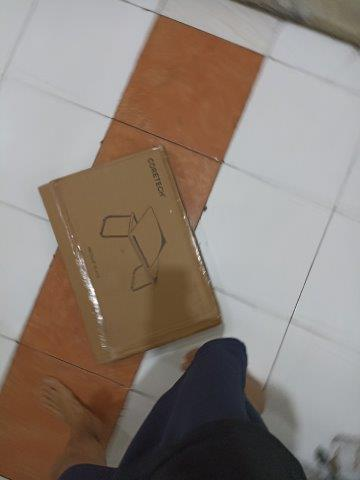kardus: (40, 148, 221, 362)
